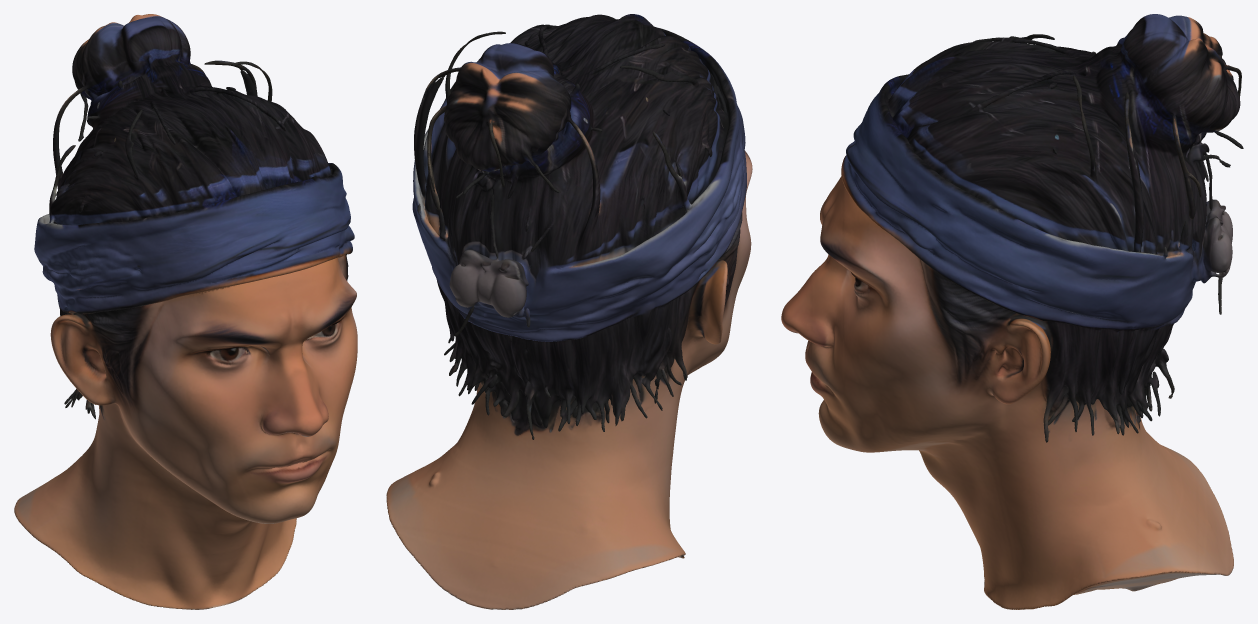
Rendered from prajurit-kepala-tripo.glb.
3 views of the same model, side by side, from view 1: azimuth 30°, elevation 25°; view 2: azimuth 150°, elevation 25°; view 3: azimuth 270°, elevation 25° (orthographic). The views are drawn at different scales.
Visible parts, largest first — view 1: tripo_node_35004082-9b48-4505-a960-eb52eb007f00; view 2: tripo_node_35004082-9b48-4505-a960-eb52eb007f00; view 3: tripo_node_35004082-9b48-4505-a960-eb52eb007f00.
Boxes of the visible parts, <box> form: tripo_node_35004082-9b48-4505-a960-eb52eb007f00: <box>14,14,357,609</box>; tripo_node_35004082-9b48-4505-a960-eb52eb007f00: <box>386,14,752,609</box>; tripo_node_35004082-9b48-4505-a960-eb52eb007f00: <box>781,14,1243,609</box>.
Bounding box in the file's own units: 0.5626 × 1 × 0.7411.
Materials: 1 (1 with a texture image).
